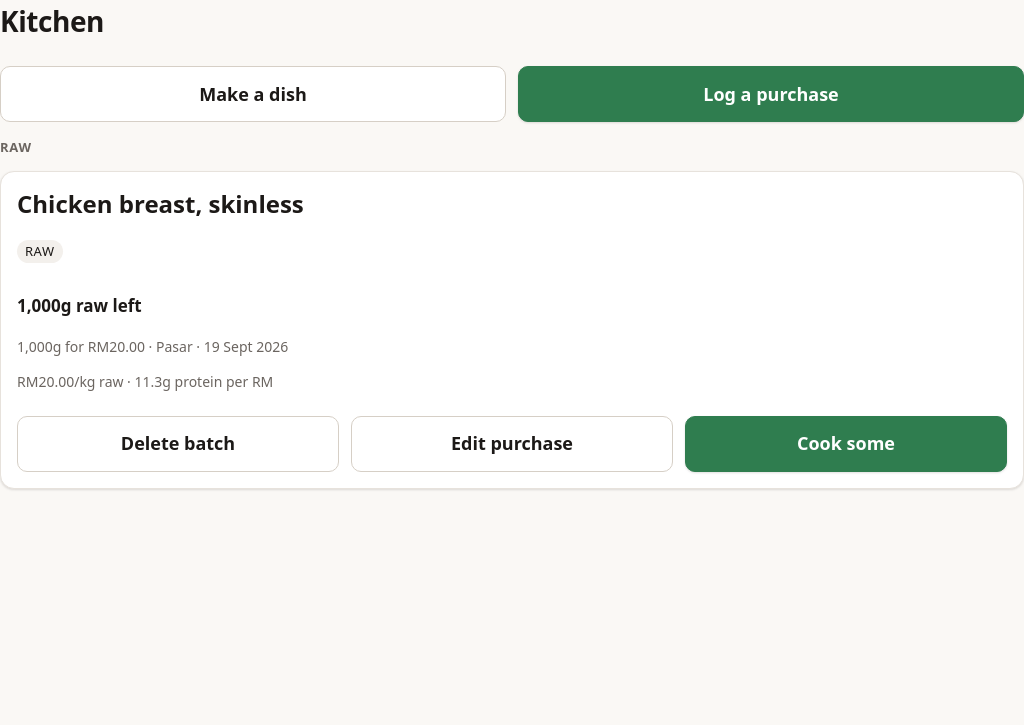
Scenario: KitchenScreen › shows a cook on the batch after saving it
Expected: the text "Raw" is shown, [17, 240, 62, 263]
Click the button "Cook some": (846, 444) [685, 416, 1007, 472]
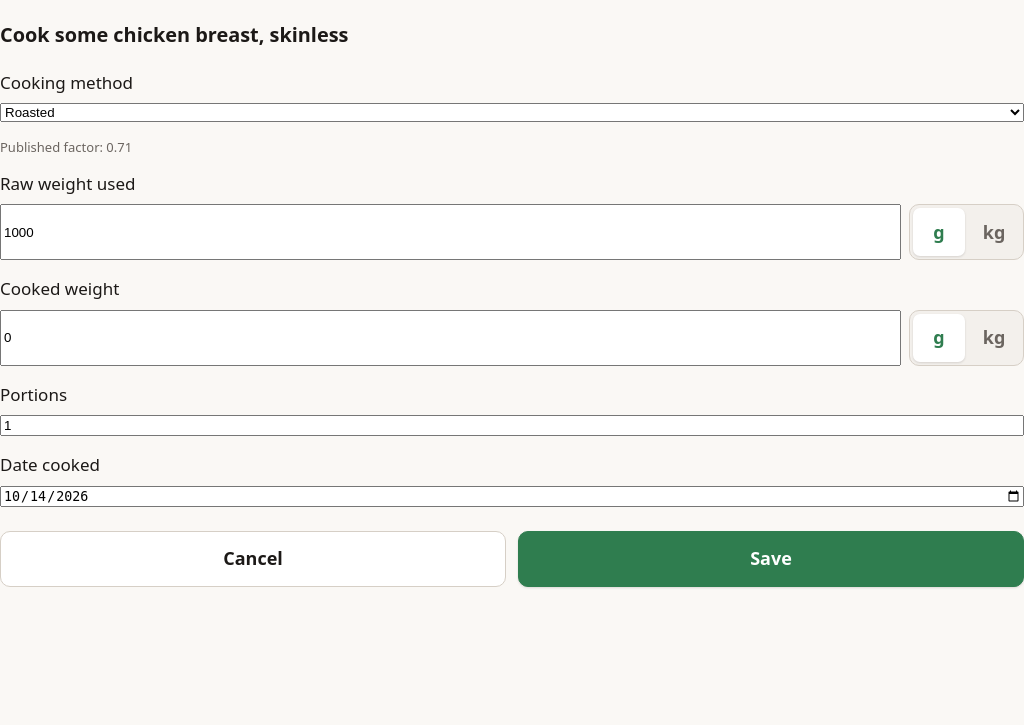
Replace the text in the number field labelled "Cooked weight" with "710": (450, 338) [0, 310, 901, 366]
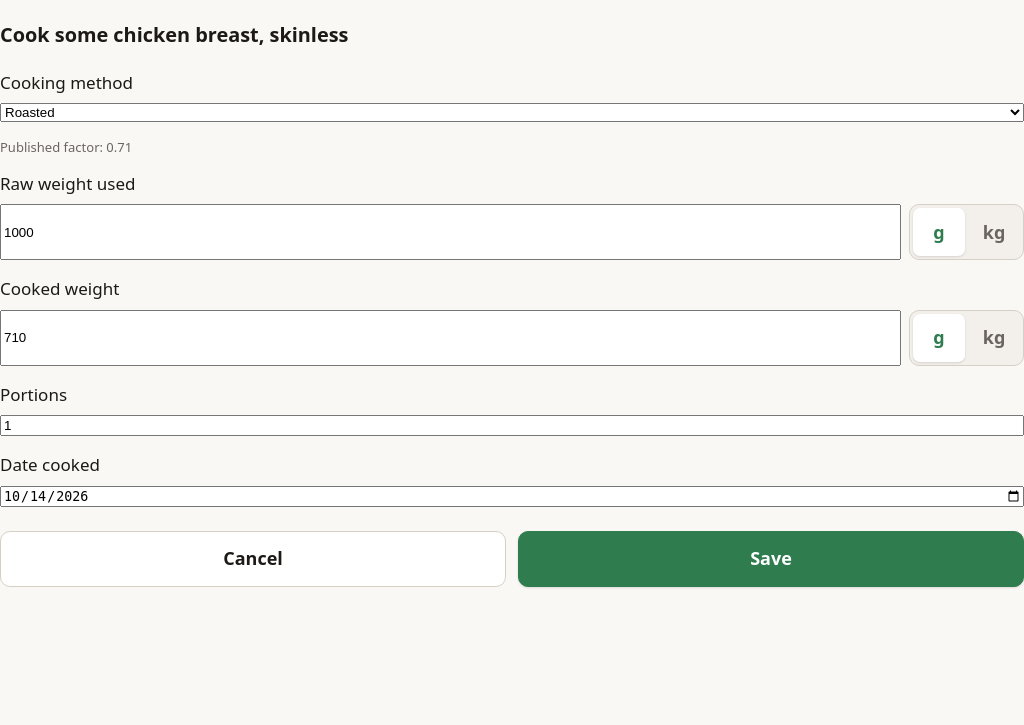
Replace the text in the number field labelled "Portions" with "4": (512, 426) [0, 415, 1023, 436]
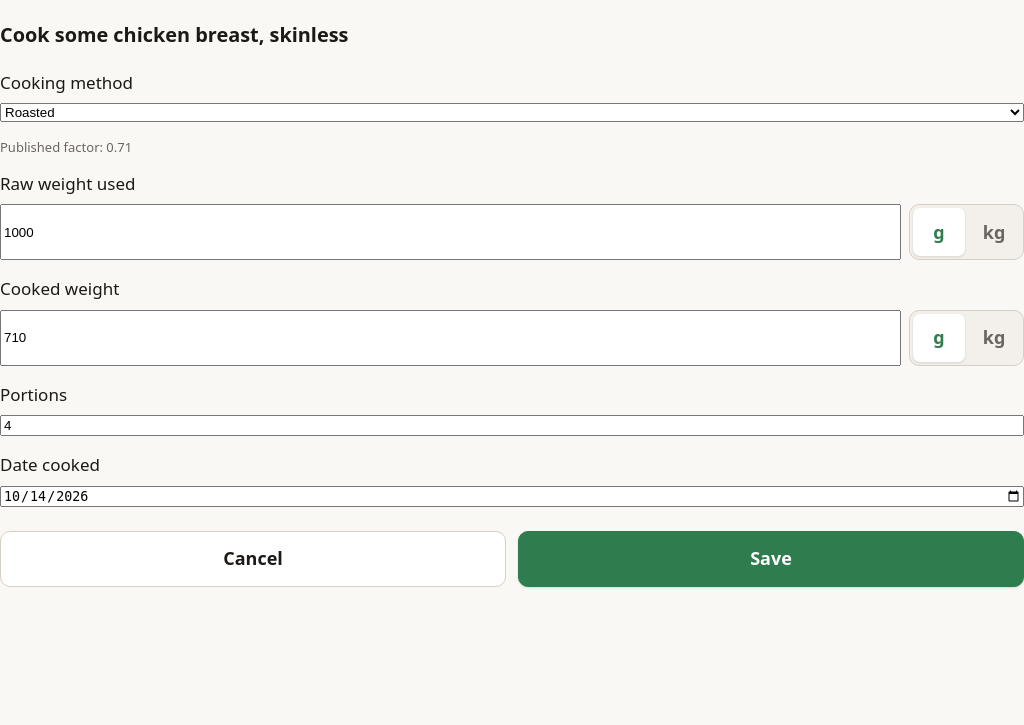
Click the button "Save": (771, 559) [518, 531, 1023, 587]
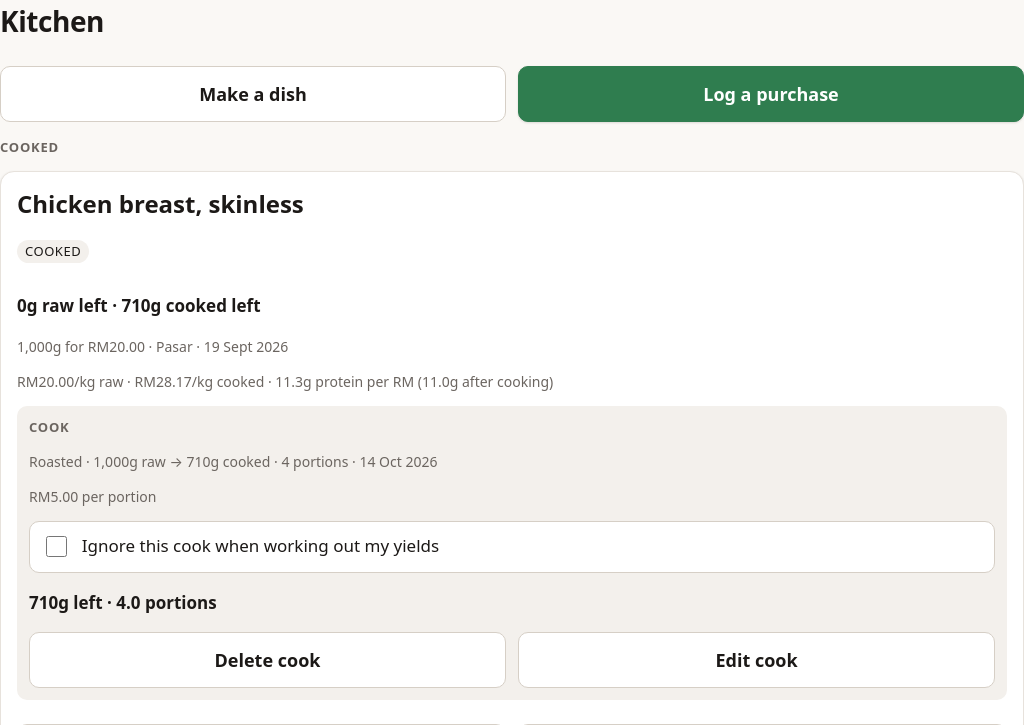
Result: the text with test id "session-summary" shows "710g" at [186, 452, 219, 471]
Result: the text with test id "batch-state" reads "Cooked" at [25, 242, 81, 260]
